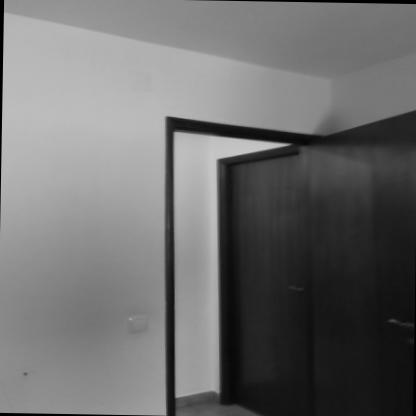open: (182, 102, 416, 416)
